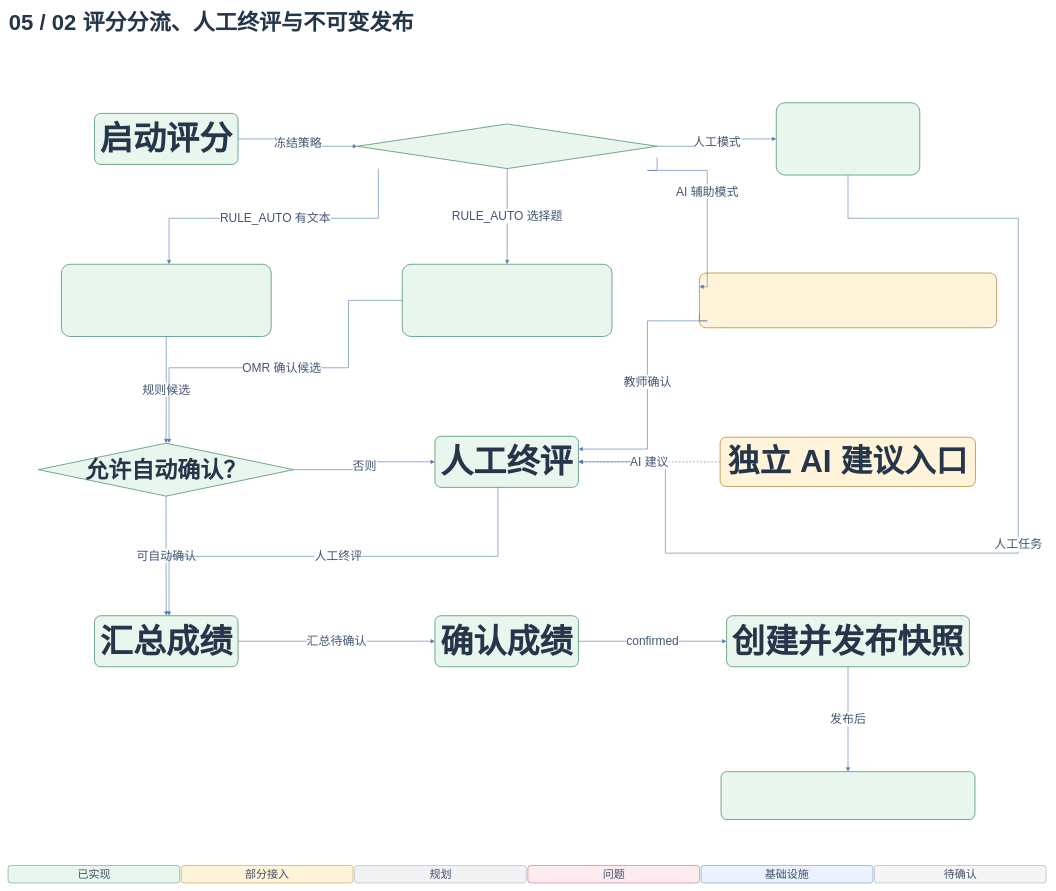
This 1056x891 diagram has some shape labels left out. The shapes that lost their labels are listed below. From the top down, each one's centre as x and y in pixels, then its label:
At point (507, 146): "冻结的 scoring_mode".
At point (848, 138): "人工评分 单评 / 双评 / 手工".
At point (166, 300): "RULE_AUTO 文本规则".
At point (507, 300): "RULE_AUTO OMR 规则".
At point (848, 300): "AI_ASSIST / AI_FAST_CONFIRM 人工确认".
At point (847, 795): "学生读取当前快照".
